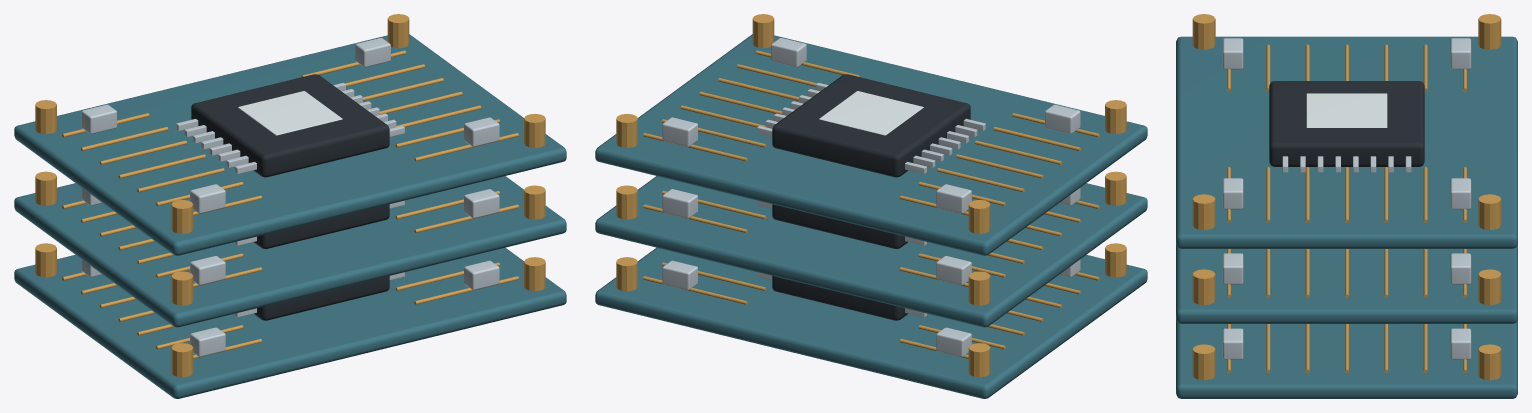
Rendered from circuit.glb.
3 renders of one model, left to right at view 1: azimuth 30°, elevation 25°; view 2: azimuth 150°, elevation 25°; view 3: azimuth 270°, elevation 25°, orthographic. The views are drawn at different scales.
Visible parts, largest first — view 1: upper_Blue_PCB_substrate.001, middle_Blue_PCB_substrate.001, base_Blue_PCB_substrate.001, upper_Ceramic_chip.001, upper_Gold_thermal_foil.002, upper_Brushed_aluminum.002, base_Gold_thermal_foil.002, middle_Gold_thermal_foil.002, upper_Printed_traces.002, middle_Brushed_aluminum.002, base_Brushed_aluminum.002, middle_Ceramic_chip.001 (+1 smaller); view 2: upper_Blue_PCB_substrate.001, middle_Blue_PCB_substrate.001, base_Blue_PCB_substrate.001, upper_Ceramic_chip.001, upper_Gold_thermal_foil.002, upper_Brushed_aluminum.002, base_Gold_thermal_foil.002, middle_Gold_thermal_foil.002, upper_Printed_traces.002, middle_Brushed_aluminum.002, base_Brushed_aluminum.002, middle_Ceramic_chip.001 (+1 smaller); view 3: upper_Blue_PCB_substrate.001, middle_Blue_PCB_substrate.001, base_Blue_PCB_substrate.001, upper_Ceramic_chip.001, upper_Gold_thermal_foil.002, upper_Brushed_aluminum.002, middle_Gold_thermal_foil.002, base_Gold_thermal_foil.002, upper_Printed_traces.002, base_Brushed_aluminum.002, middle_Brushed_aluminum.002.
Boxes of the visible parts, bbox=[...] form: upper_Blue_PCB_substrate.001: bbox=[14, 34, 566, 255]; middle_Blue_PCB_substrate.001: bbox=[14, 176, 566, 327]; base_Blue_PCB_substrate.001: bbox=[14, 247, 566, 398]; upper_Ceramic_chip.001: bbox=[191, 74, 389, 177]; upper_Gold_thermal_foil.002: bbox=[35, 14, 545, 233]; upper_Brushed_aluminum.002: bbox=[81, 38, 499, 213]; base_Gold_thermal_foil.002: bbox=[35, 243, 545, 377]; middle_Gold_thermal_foil.002: bbox=[35, 171, 545, 305]; upper_Printed_traces.002: bbox=[238, 91, 342, 135]; middle_Brushed_aluminum.002: bbox=[81, 187, 499, 285]; base_Brushed_aluminum.002: bbox=[81, 259, 499, 356]; middle_Ceramic_chip.001: bbox=[254, 204, 389, 248]; upper_Blue_PCB_substrate.001: bbox=[595, 34, 1147, 255]; middle_Blue_PCB_substrate.001: bbox=[595, 176, 1147, 327]; base_Blue_PCB_substrate.001: bbox=[595, 247, 1147, 398]; upper_Ceramic_chip.001: bbox=[772, 74, 970, 177]; upper_Gold_thermal_foil.002: bbox=[616, 14, 1126, 233]; upper_Brushed_aluminum.002: bbox=[662, 38, 1080, 213]; base_Gold_thermal_foil.002: bbox=[616, 243, 1126, 377]; middle_Gold_thermal_foil.002: bbox=[616, 171, 1126, 305]; upper_Printed_traces.002: bbox=[819, 91, 923, 135]; middle_Brushed_aluminum.002: bbox=[662, 187, 1080, 285]; base_Brushed_aluminum.002: bbox=[662, 259, 1080, 356]; middle_Ceramic_chip.001: bbox=[772, 204, 907, 248]; upper_Blue_PCB_substrate.001: bbox=[1176, 36, 1517, 248]; middle_Blue_PCB_substrate.001: bbox=[1176, 244, 1517, 323]; base_Blue_PCB_substrate.001: bbox=[1176, 319, 1517, 398]; upper_Ceramic_chip.001: bbox=[1269, 81, 1424, 166]; upper_Gold_thermal_foil.002: bbox=[1192, 14, 1501, 229]; upper_Brushed_aluminum.002: bbox=[1222, 38, 1471, 209]; middle_Gold_thermal_foil.002: bbox=[1192, 249, 1501, 305]; base_Gold_thermal_foil.002: bbox=[1192, 324, 1501, 380]; upper_Printed_traces.002: bbox=[1306, 93, 1387, 127]; base_Brushed_aluminum.002: bbox=[1222, 328, 1471, 359]; middle_Brushed_aluminum.002: bbox=[1222, 253, 1471, 284].
Size of the model in its own units: 2.3 by 1.02 by 1.65.
